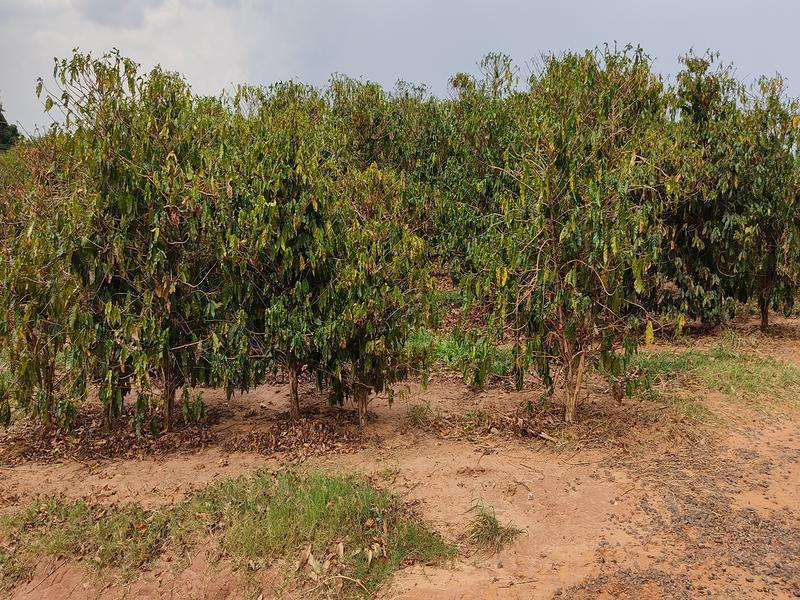coffee: (475, 50, 666, 445), (121, 124, 241, 456), (314, 189, 438, 445), (70, 122, 169, 442), (233, 171, 340, 442), (1, 195, 108, 439)
